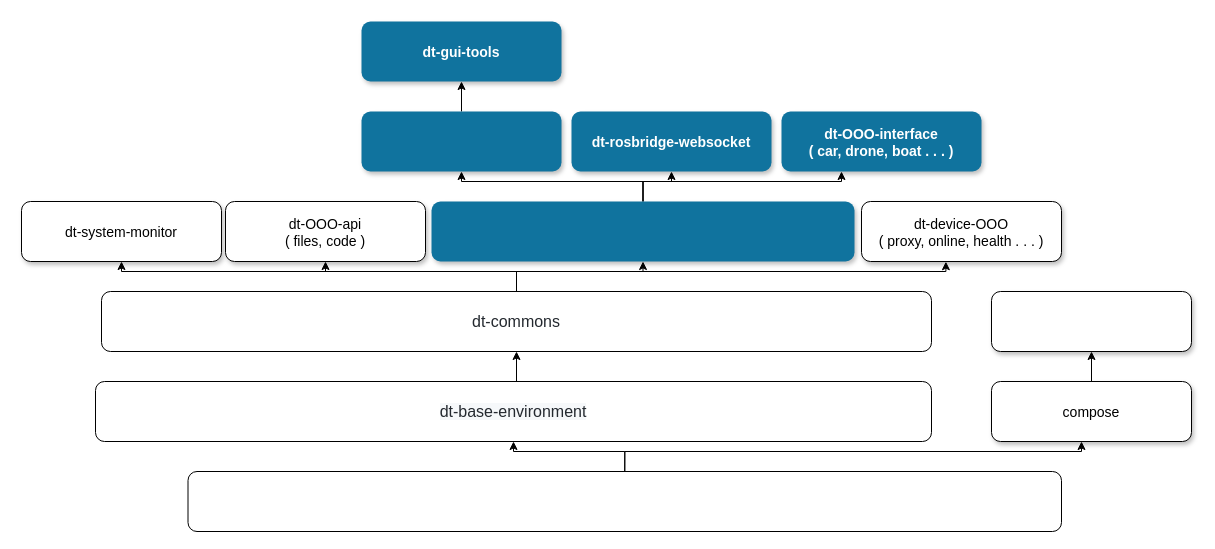
This 1215x549 diagram has some shape labels left out. Here are the shapes that lost their labels. From the top down, the centre of each, then its label:
At (x=462, y=142): "dt-core".
At (x=643, y=232): "dt-ros-commons".
At (x=1092, y=322): "dt-device-dashboard".
At (x=624, y=501): "arm32v7/ubuntu:focal".
